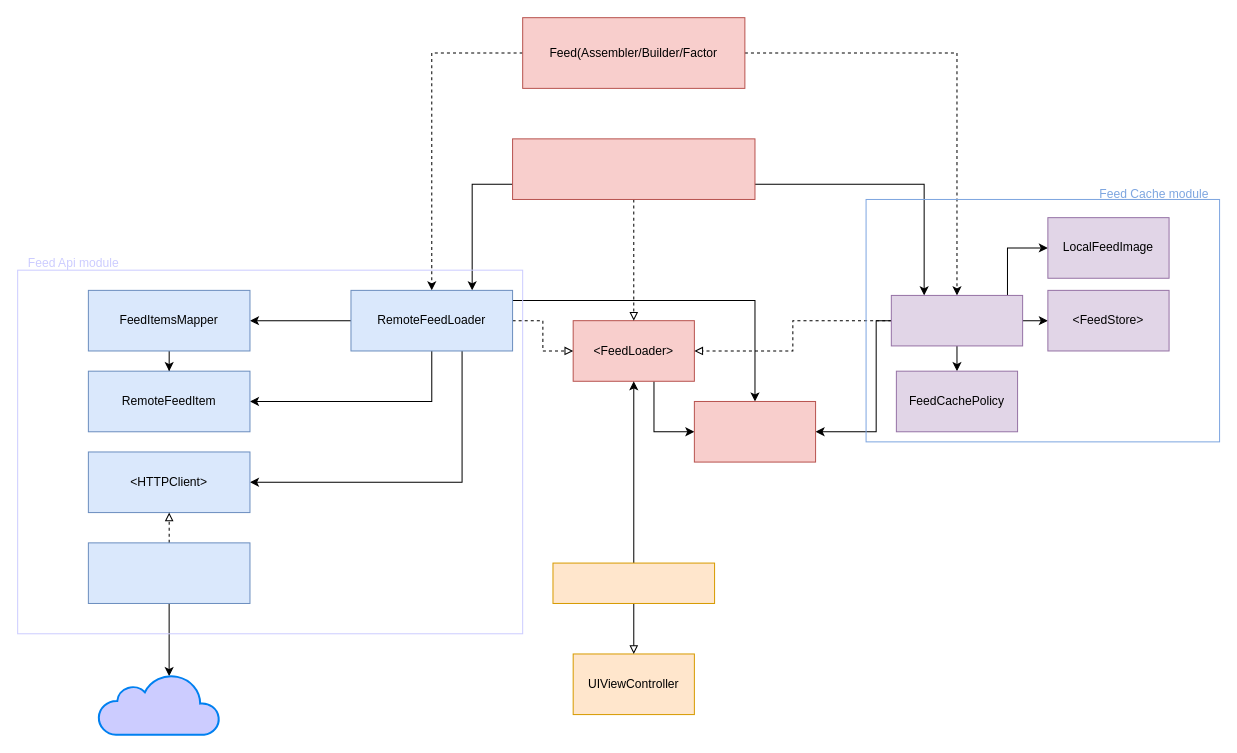
Some shapes in this 1237 by 753 pixel diagram are drawn without their labels. The shapes that lost their labels are listed below. From the top down, each one's box as (x1, y1, x2, y2) in pixels, then its label:
(512, 138, 755, 199): RemoteWithLocalFallbackFeedService
(890, 294, 1023, 346): LocalFeedLoader
(693, 400, 816, 462): FeedImage
(87, 542, 250, 603): URLSession HTTPClient
(552, 562, 715, 603): FeedViewController
